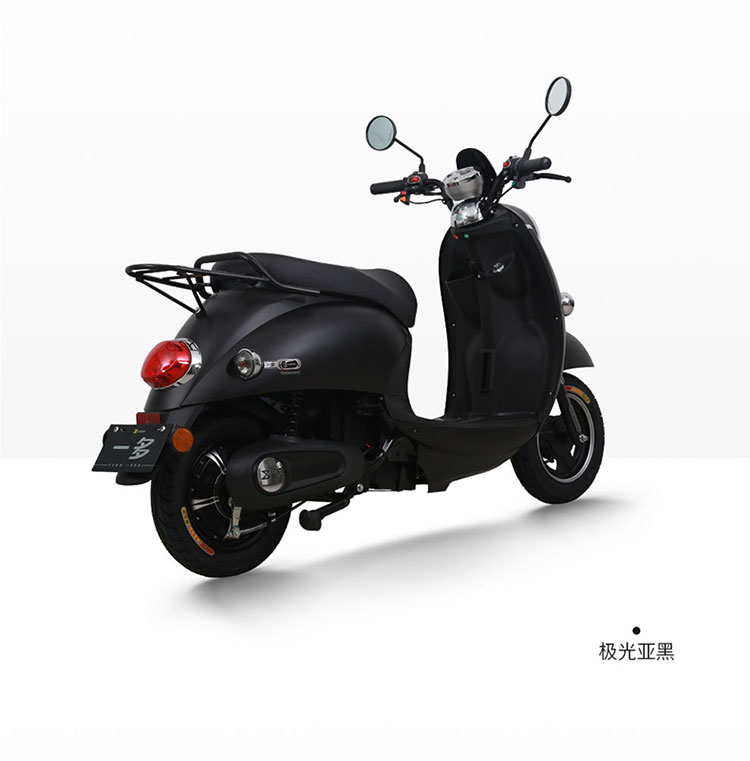电动车: (95, 73, 626, 606)
